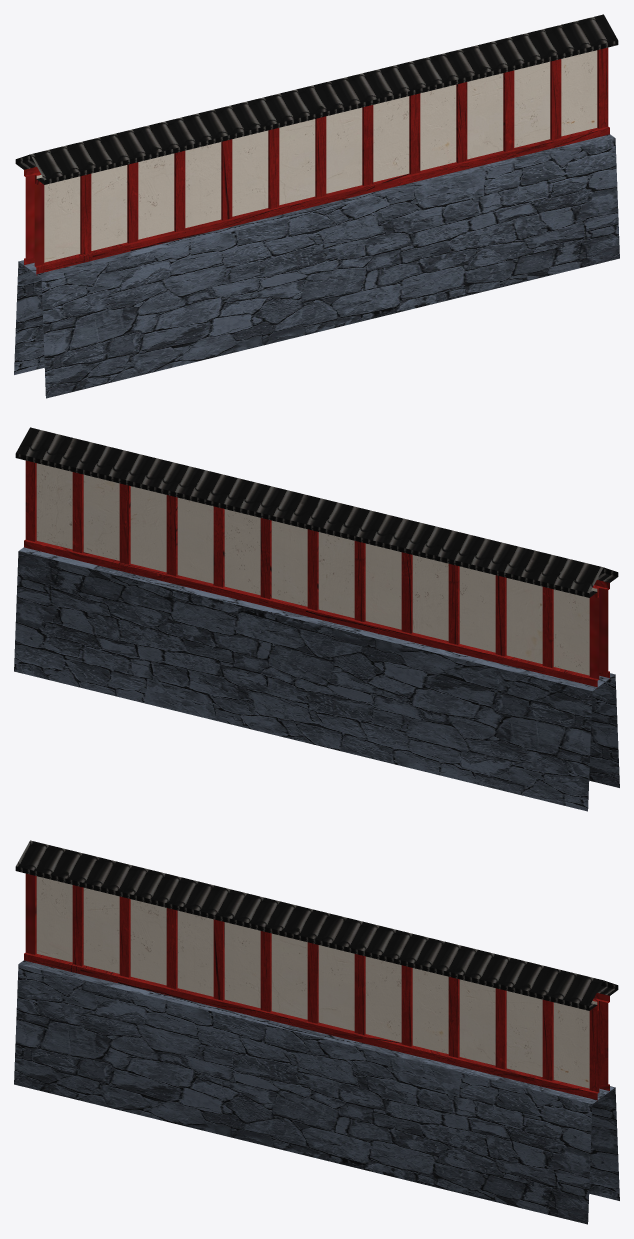
Rendered from WallMiddle.fbx.
3 views of the same model, one above another, from view 1: azimuth 30°, elevation 25°; view 2: azimuth 150°, elevation 25°; view 3: azimuth 330°, elevation 25° (orthographic).
Visible parts, largest first — view 1: Cube_000, Cube_030, Cube_029, Cube_014; view 2: Cube_000, Cube_030, Cube_029, Cube_014; view 3: Cube_000, Cube_030, Cube_029, Cube_014.
Part boxes in pixels (bbox=[...]): Cube_000: bbox=[14, 134, 619, 398]; Cube_030: bbox=[36, 50, 597, 262]; Cube_029: bbox=[15, 14, 618, 184]; Cube_014: bbox=[24, 47, 609, 275]; Cube_000: bbox=[14, 547, 619, 811]; Cube_030: bbox=[36, 463, 597, 675]; Cube_029: bbox=[15, 427, 618, 597]; Cube_014: bbox=[24, 460, 609, 688]; Cube_000: bbox=[14, 960, 619, 1224]; Cube_030: bbox=[36, 876, 597, 1088]; Cube_029: bbox=[15, 840, 618, 1010]; Cube_014: bbox=[24, 873, 609, 1101].
Bounding box in the file's own units: 1149 × 445 × 111.
